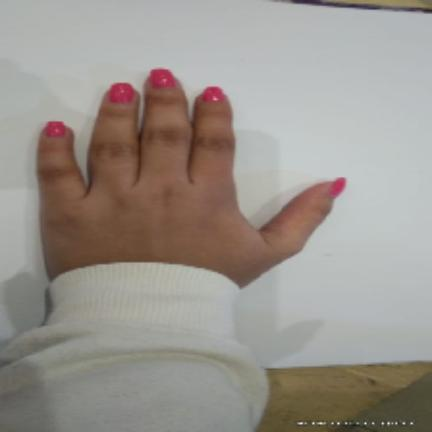Nail: (150, 68, 176, 88), (109, 83, 134, 103), (202, 86, 224, 102), (331, 177, 347, 198), (45, 122, 66, 137)
